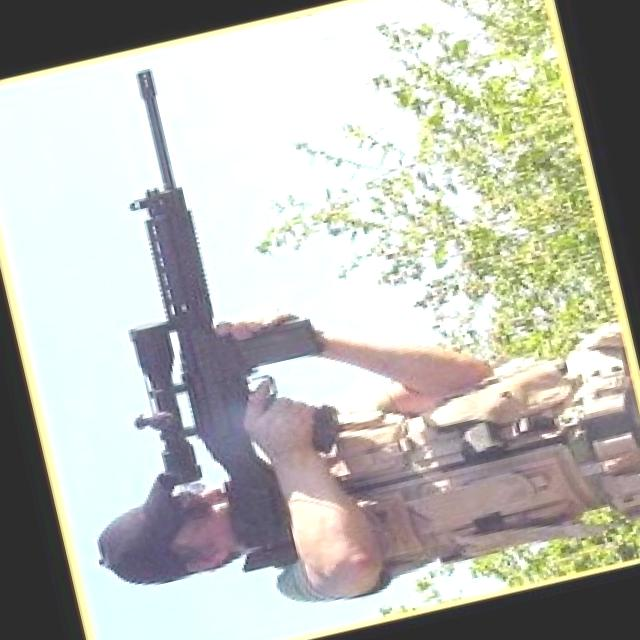long weapon: (69, 58, 384, 502)
